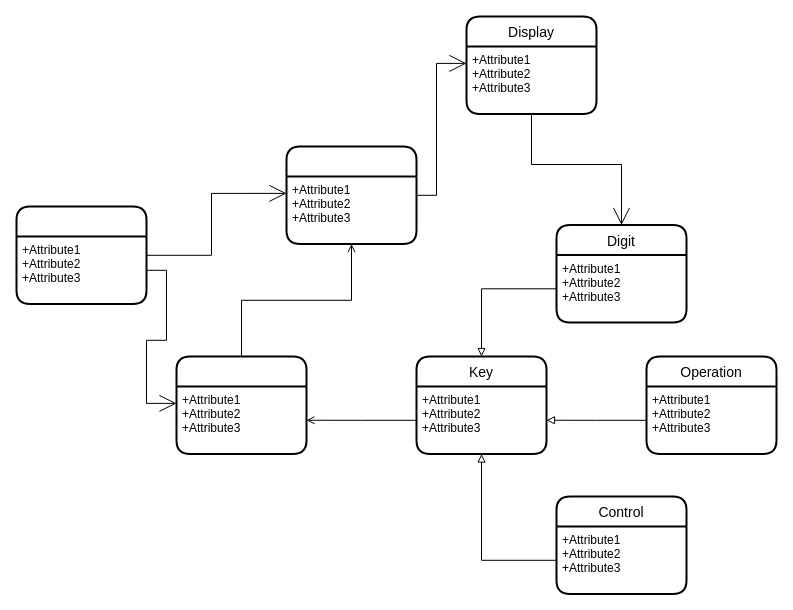
Some shapes in this 793 by 610 pixel diagram are drawn without their labels. The shapes that lost their labels are listed below. From the top down, each one's box as (x1, y1, x2, y2) in pixels, then its label:
(285, 145, 417, 244): CPU
(15, 205, 147, 304): Calculadora
(175, 355, 307, 454): Keyboard
